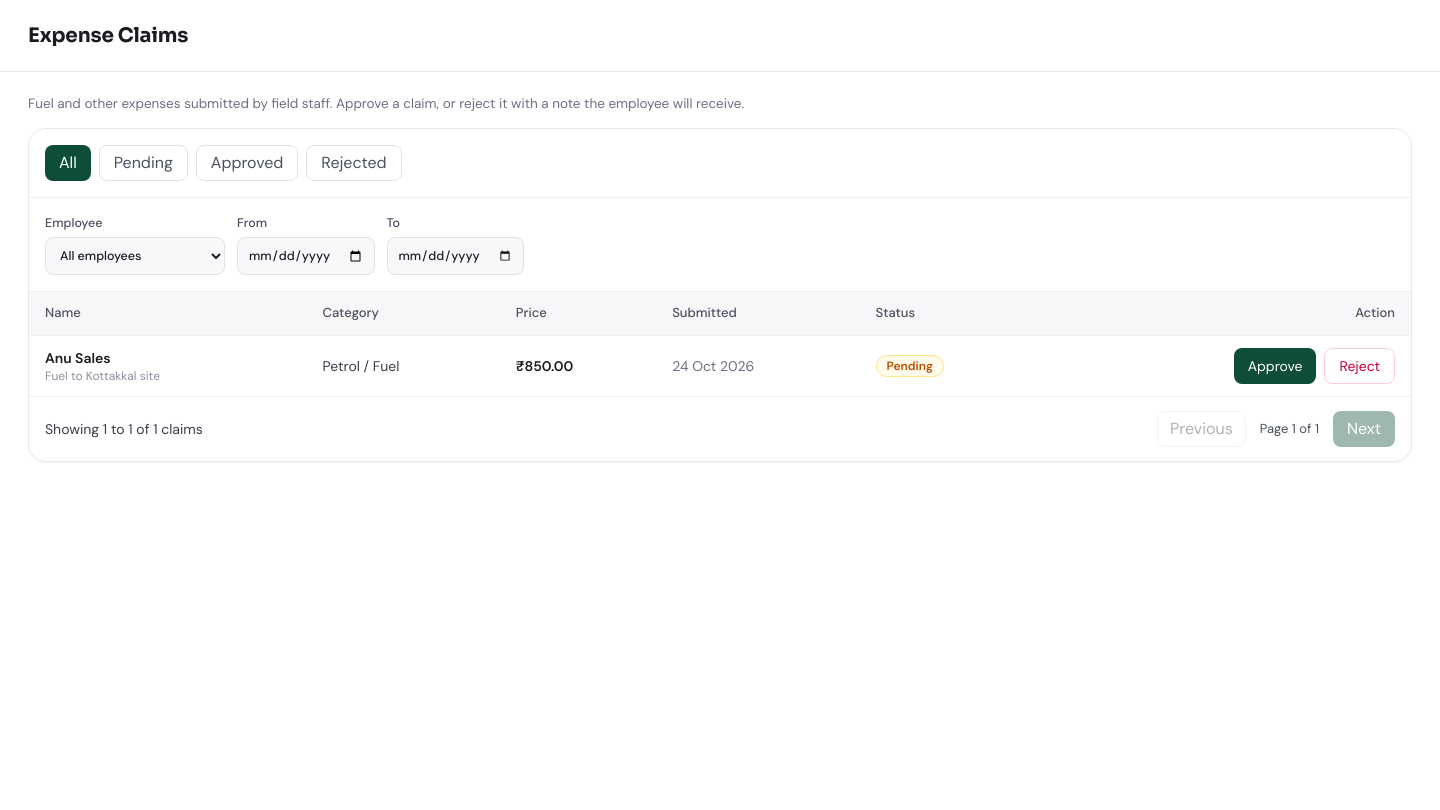
Test: ExpensesPage › refuses a blank rejection note and sends nothing
The width and height of the screenshot is (1440, 810).
Expected: the text "Anu Sales" is shown, top-left (45, 349), bottom-right (111, 367)
Click the button "Reject" at (1360, 366), box top-left (1324, 348), bottom-right (1395, 384)
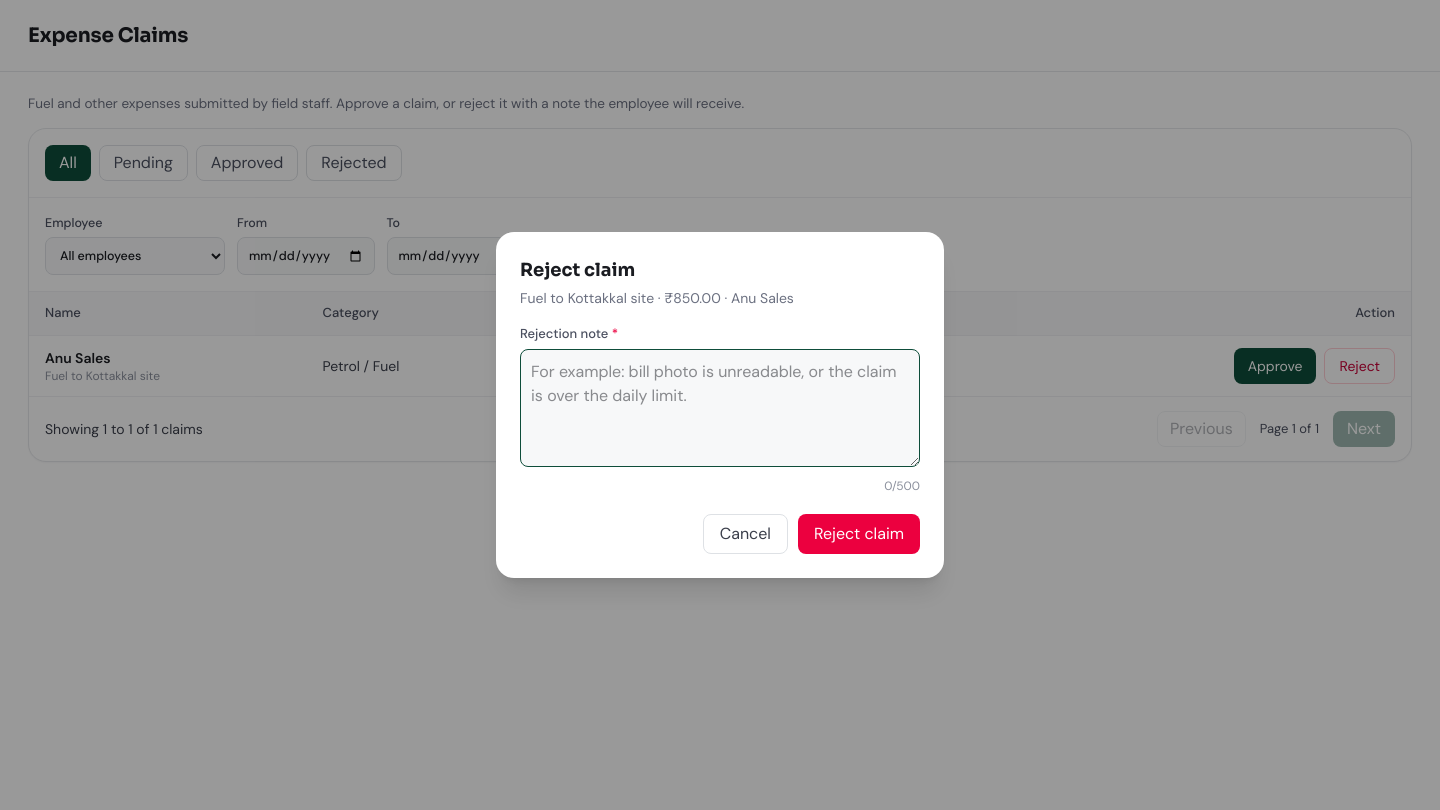
Click the button "Reject claim" at (859, 534), box top-left (798, 514), bottom-right (920, 554)
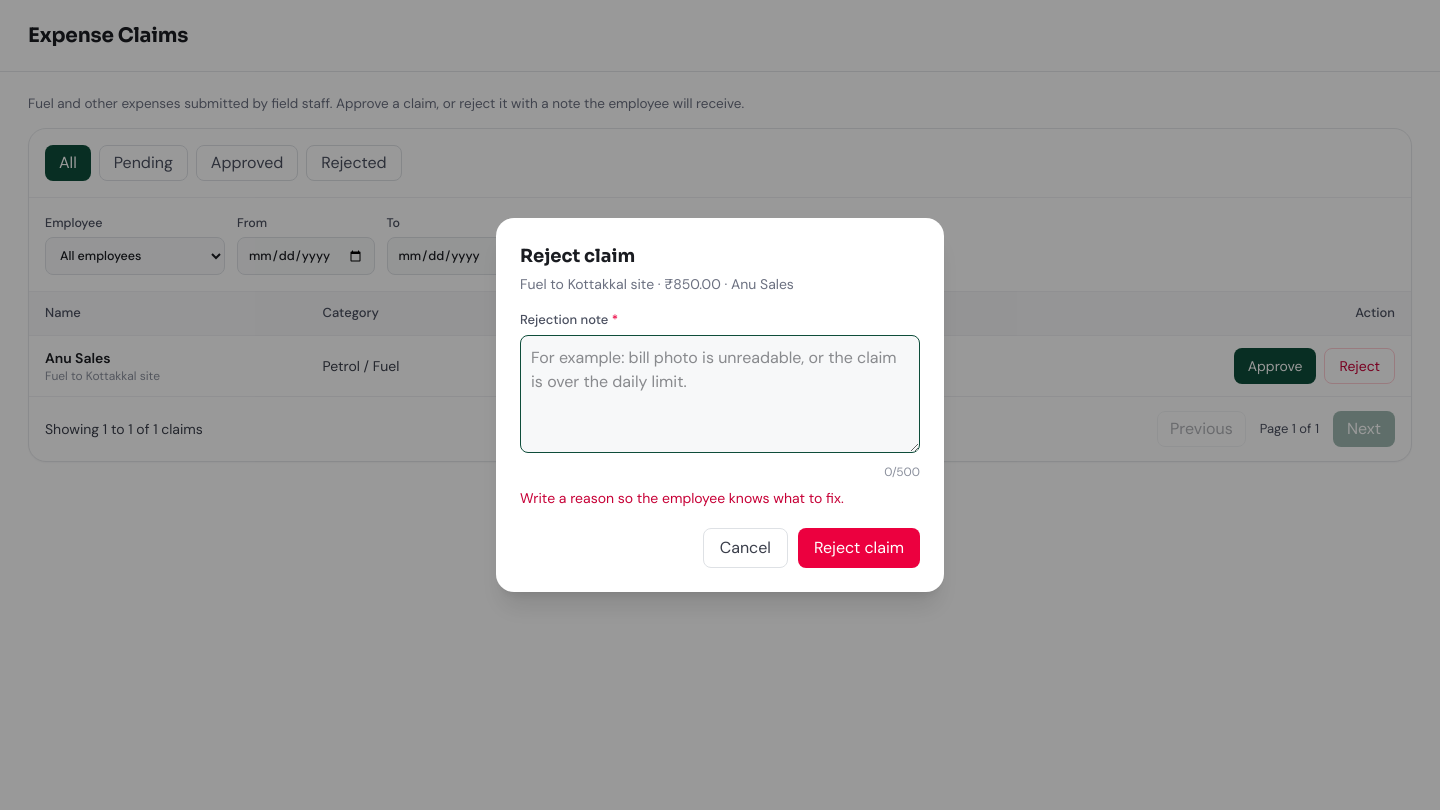
Now the message "Write a reason so the employee knows what to fix." is shown, box top-left (520, 489), bottom-right (844, 507)
